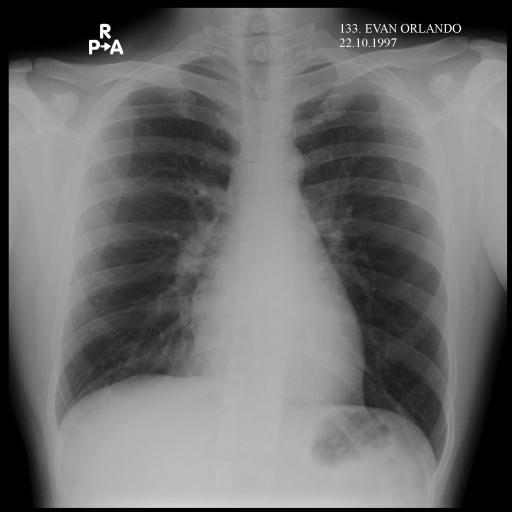normal: (44, 21, 458, 474)
